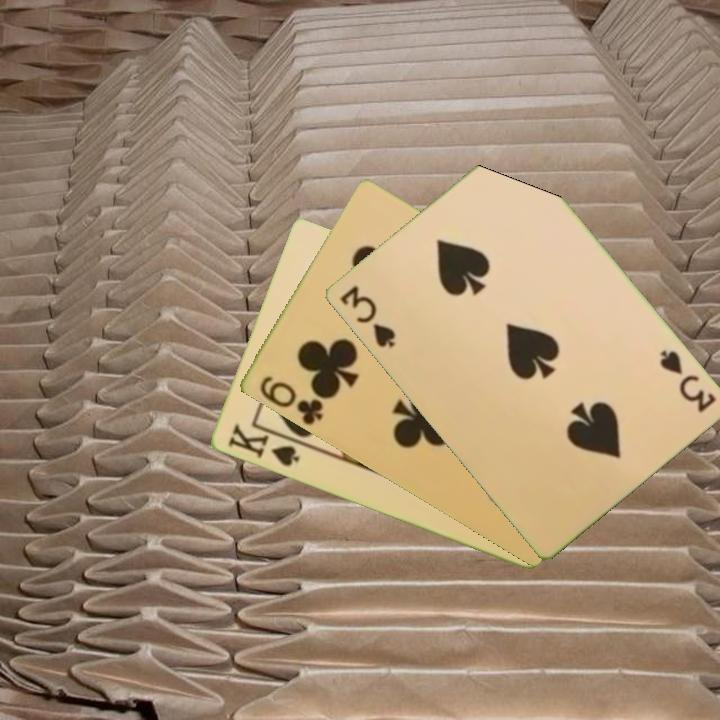3s: (655, 346, 719, 416), (335, 282, 398, 351)
6c: (255, 372, 326, 428)
Ks: (223, 420, 306, 470)
